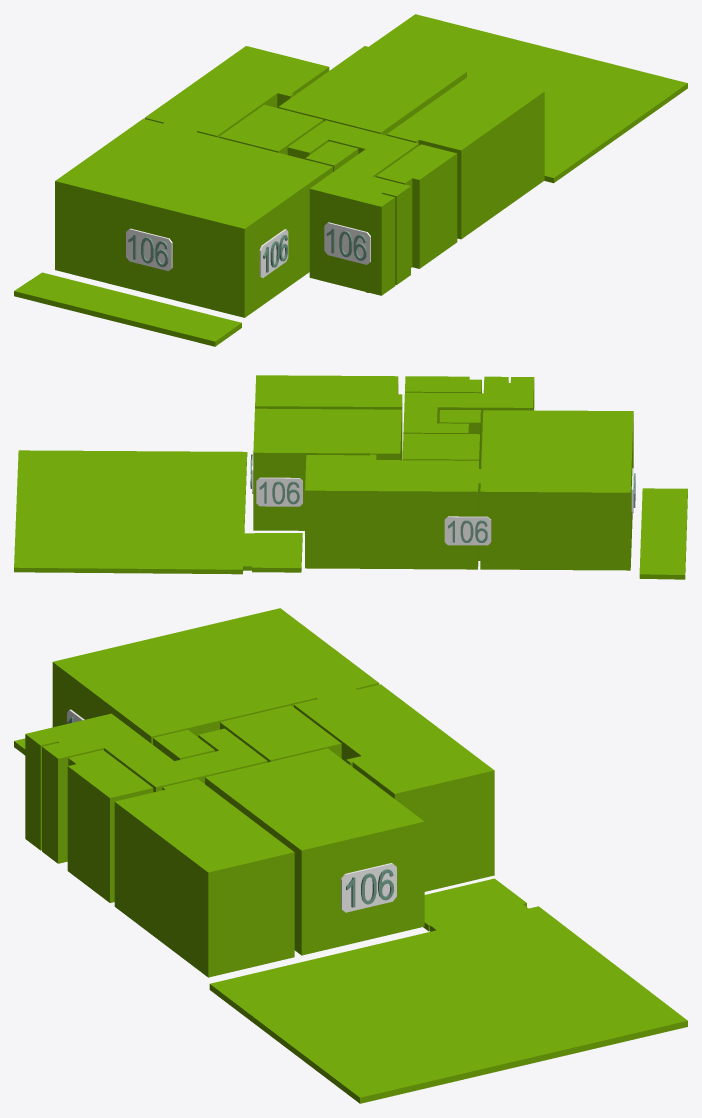
3 views of the same model, one above another, from view 1: azimuth 30°, elevation 25°; view 2: azimuth 150°, elevation 25°; view 3: azimuth 270°, elevation 25° (orthographic). The views are drawn at different scales.
Visible parts, largest first — view 1: g_7, g_8, g_0, g_5, g_1, g_2, g_9, g_6, g_3, g_13, g_33, g_4 (+1 smaller); view 2: g_8, g_7, g_2, g_1, g_0, g_5, g_9, g_3, g_6, g_29, g_17, g_4; view 3: g_8, g_0, g_7, g_1, g_2, g_5, g_6, g_3, g_21, g_4.
Part boxes in pixels (x1=…): g_7: x1=55, y1=118, x2=332, y2=317; g_8: x1=369, y1=14, x2=687, y2=183; g_0: x1=386, y1=73, x2=544, y2=239; g_5: x1=287, y1=120, x2=418, y2=295; g_1: x1=278, y1=46, x2=466, y2=135; g_2: x1=144, y1=46, x2=329, y2=137; g_9: x1=14, y1=272, x2=241, y2=346; g_6: x1=376, y1=144, x2=457, y2=268; g_3: x1=219, y1=104, x2=323, y2=154; g_13: x1=324, y1=222, x2=370, y2=264; g_33: x1=126, y1=228, x2=172, y2=271; g_4: x1=305, y1=141, x2=358, y2=171; g_8: x1=14, y1=450, x2=302, y2=574; g_7: x1=479, y1=410, x2=633, y2=570; g_2: x1=305, y1=454, x2=479, y2=569; g_1: x1=253, y1=408, x2=401, y2=530; g_0: x1=255, y1=375, x2=402, y2=459; g_5: x1=403, y1=376, x2=534, y2=468; g_9: x1=639, y1=488, x2=687, y2=579; g_3: x1=402, y1=433, x2=479, y2=468; g_6: x1=405, y1=376, x2=481, y2=393; g_29: x1=444, y1=516, x2=491, y2=545; g_17: x1=256, y1=477, x2=302, y2=506; g_4: x1=439, y1=410, x2=480, y2=468; g_8: x1=209, y1=878, x2=687, y2=1103; g_0: x1=114, y1=779, x2=294, y2=977; g_7: x1=52, y1=608, x2=379, y2=744; g_1: x1=205, y1=748, x2=424, y2=955; g_2: x1=294, y1=684, x2=494, y2=891; g_5: x1=25, y1=713, x2=267, y2=863; g_6: x1=67, y1=750, x2=153, y2=902; g_3: x1=220, y1=705, x2=341, y2=762; g_21: x1=341, y1=863, x2=396, y2=912; g_4: x1=153, y1=729, x2=214, y2=760.
Size of the model in its own units: 21.75 by 2.74 by 14.97.
